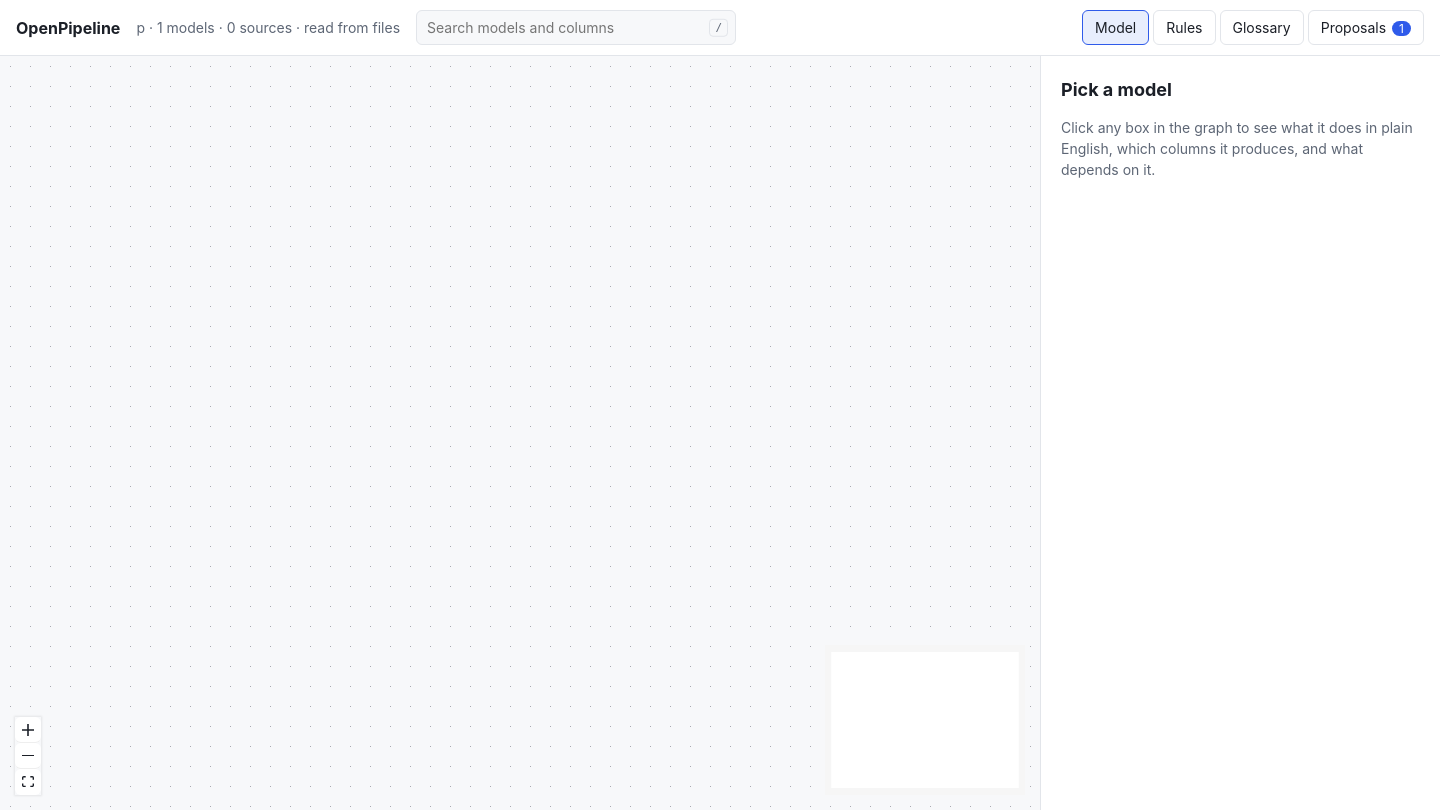
Test: write modes in the app › treats a missing /api/auth as open
Click the button "Proposals1" at (1366, 28), box [1308,10,1424,45]
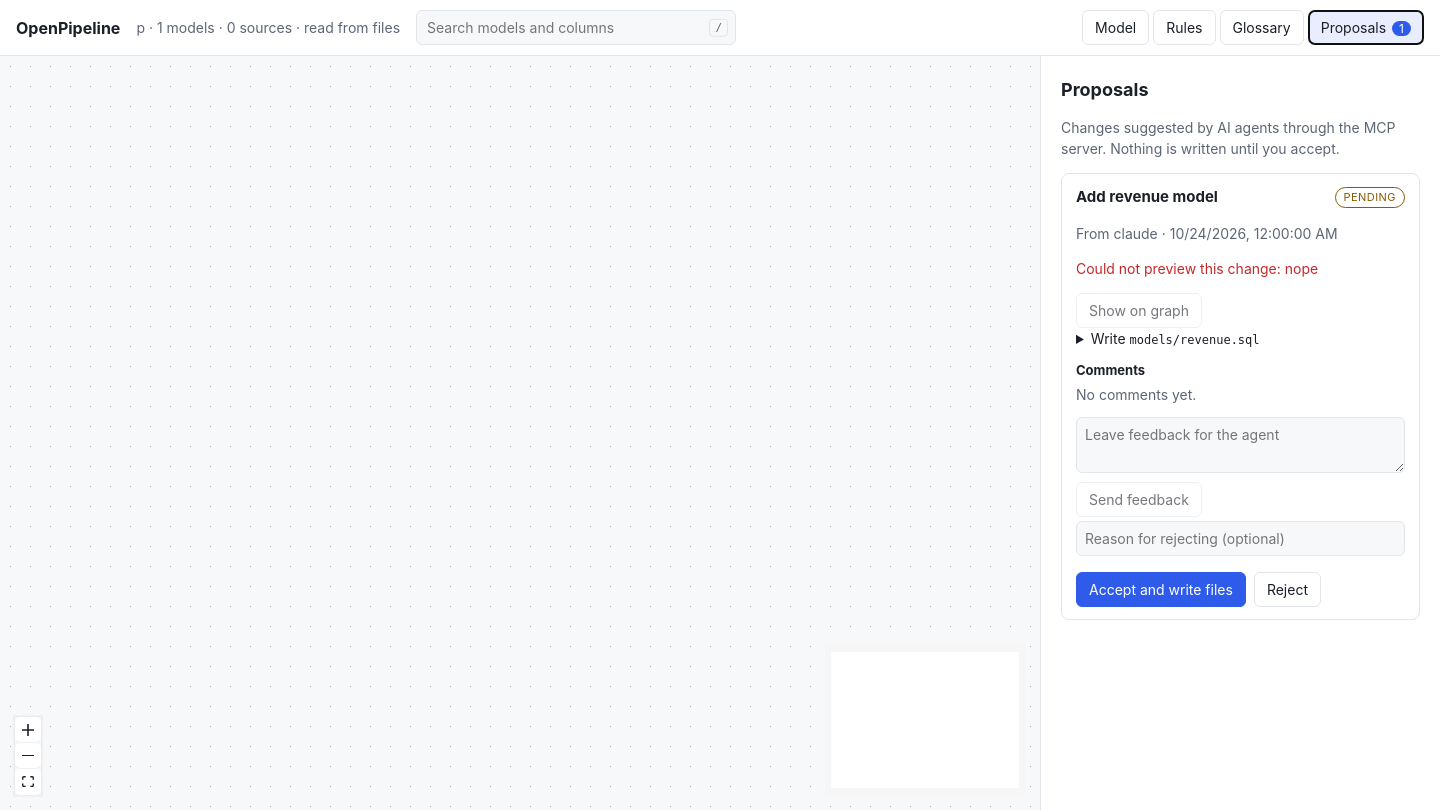
Now the button "Accept and write files" is enabled, box [1076,572,1246,607]
